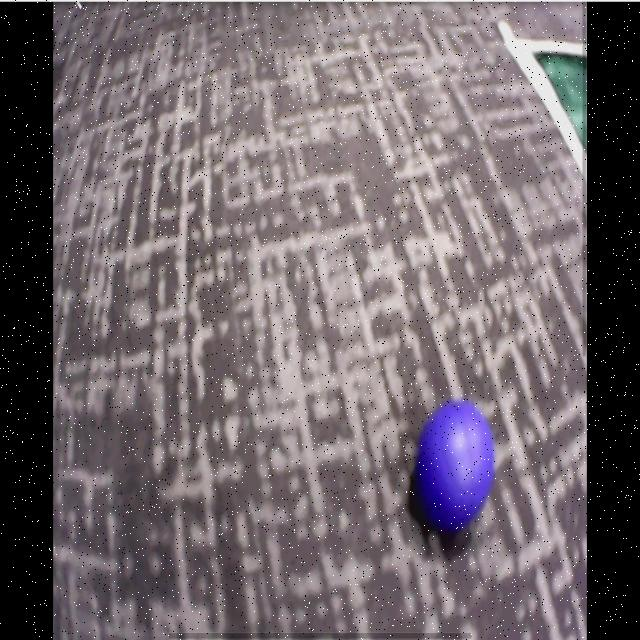ball: (416, 402, 498, 532)
